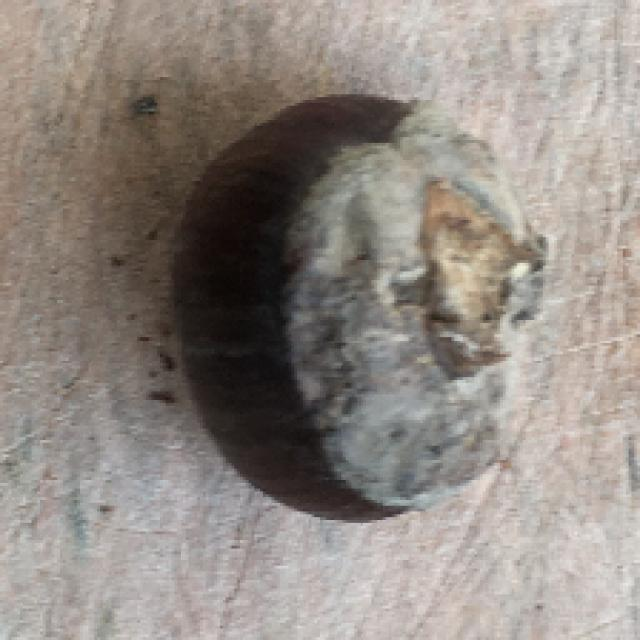damagedHazelnut: (145, 84, 549, 529)
